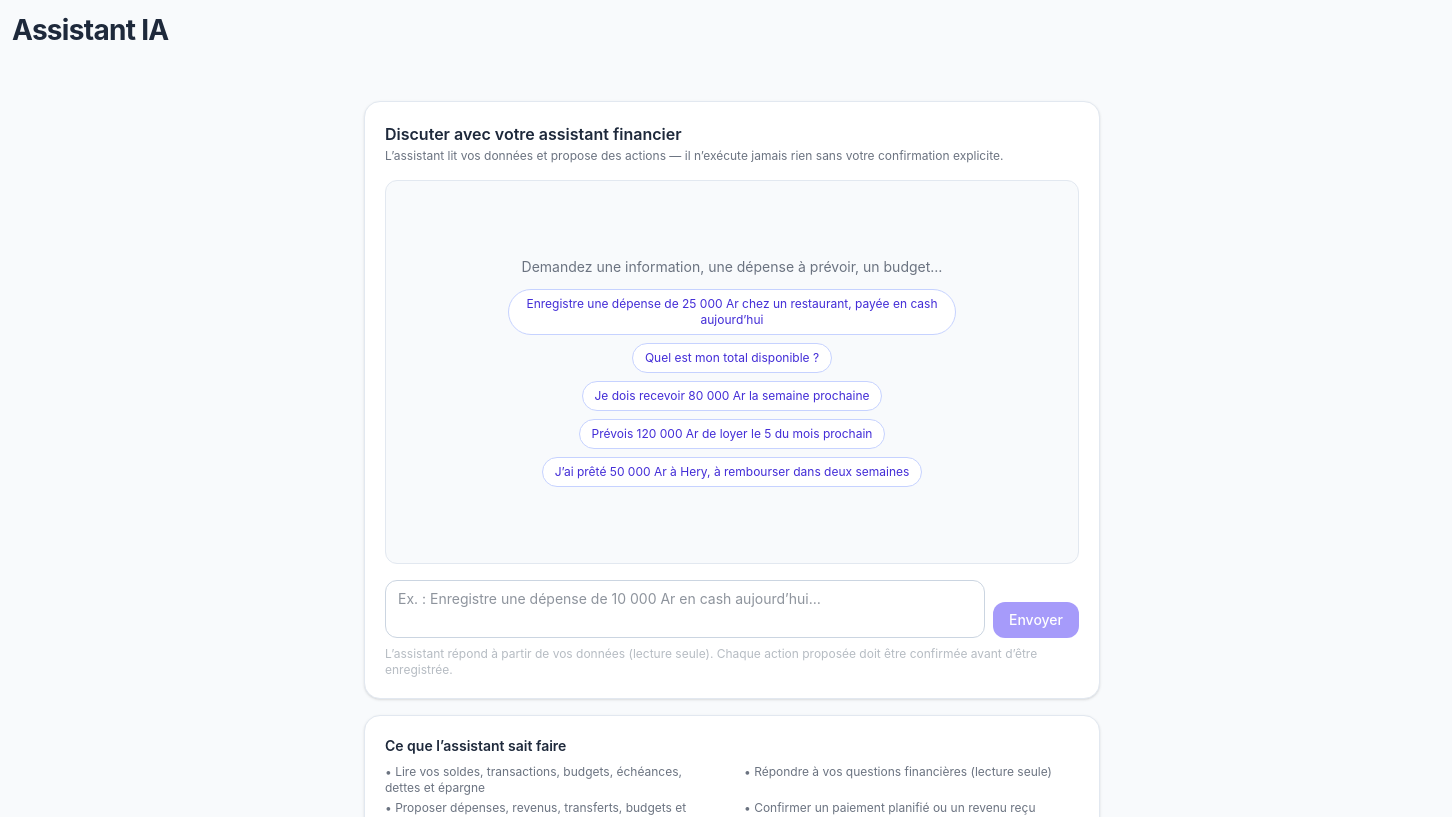
Test: AssistantPage — propositions à confirmer › PROPOSE_ACTION : carte affichée puis confirmation = exécution et message de fin
This screenshot has width=1452, height=817.
Expected: the heading "Assistant IA" is shown, left=12, top=13, right=169, bottom=47
In the text box named "Votre message": (685, 609) left=385, top=580, right=985, bottom=638, type "Enregistre 10 000 Ar en cash"
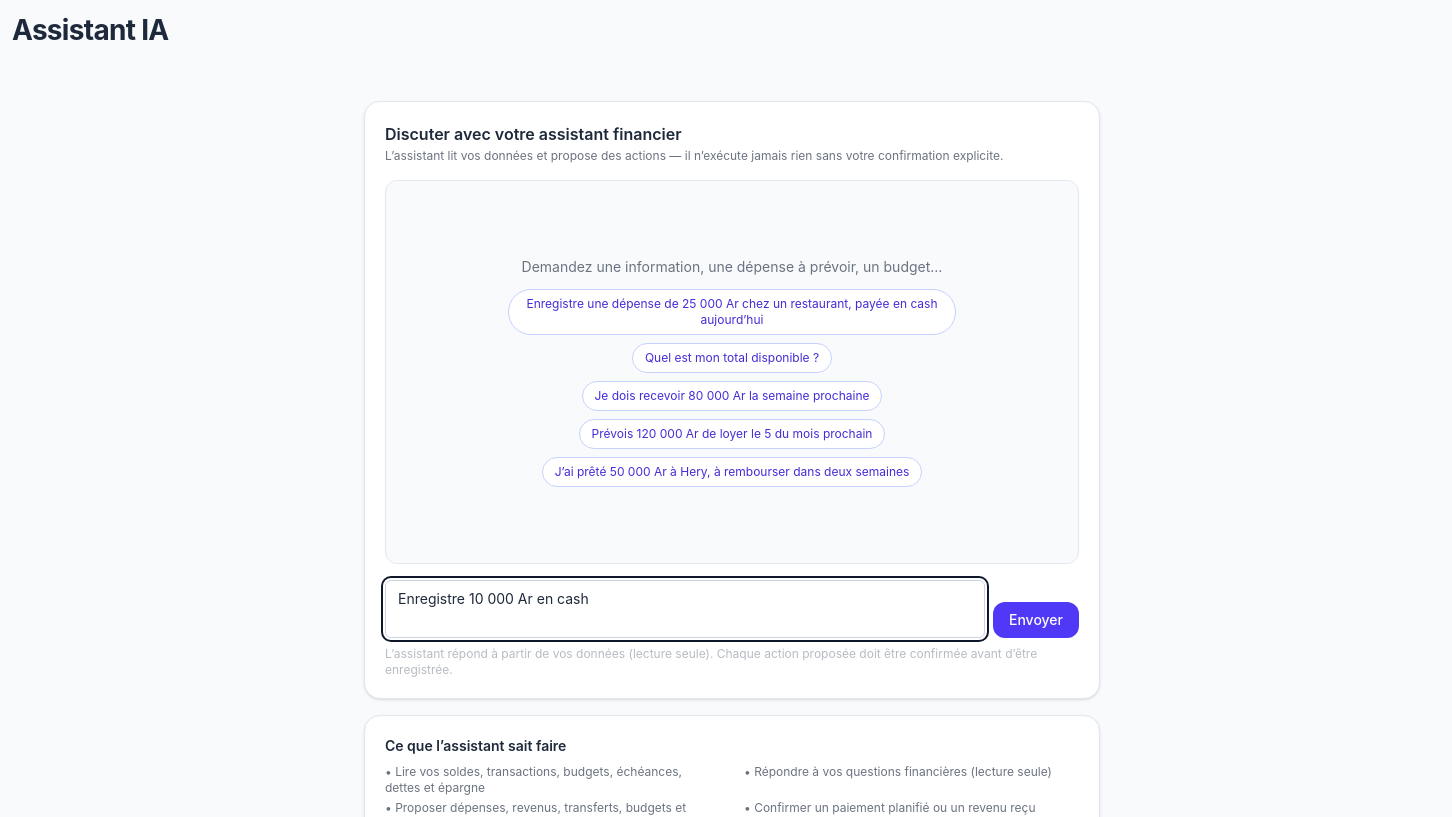
Click the button "Envoyer": (1036, 620) left=993, top=602, right=1079, bottom=638
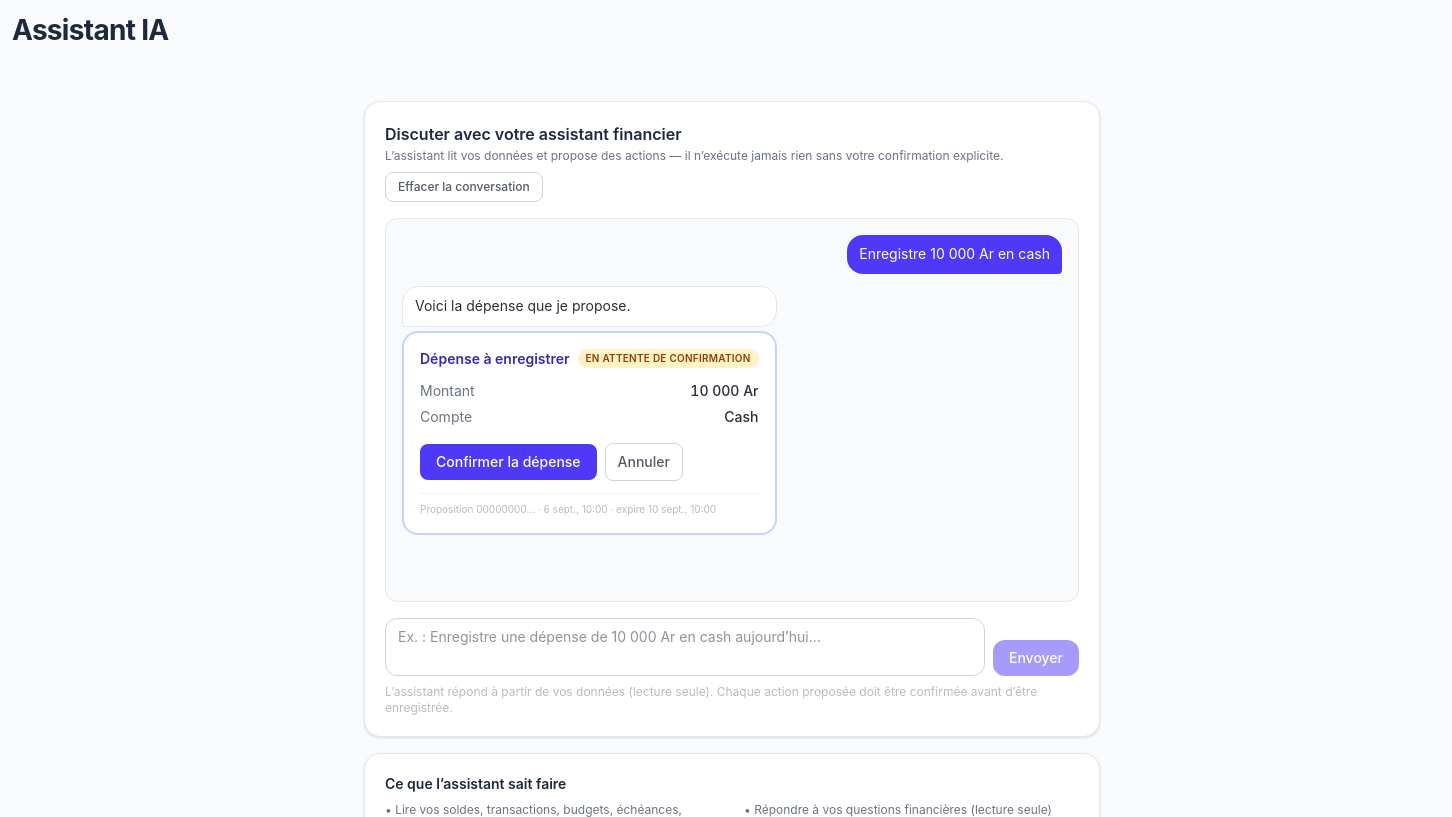
Expected: the heading "Dépense à enregistrer" is shown, left=420, top=349, right=570, bottom=369
Expected: the text "Voici la dépense que je propose." is shown, left=402, top=286, right=776, bottom=327
Expected: the text "10 000 Ar" is shown, left=690, top=381, right=758, bottom=401
Click the button "Confirmer la dépense": (508, 462) left=420, top=444, right=597, bottom=480
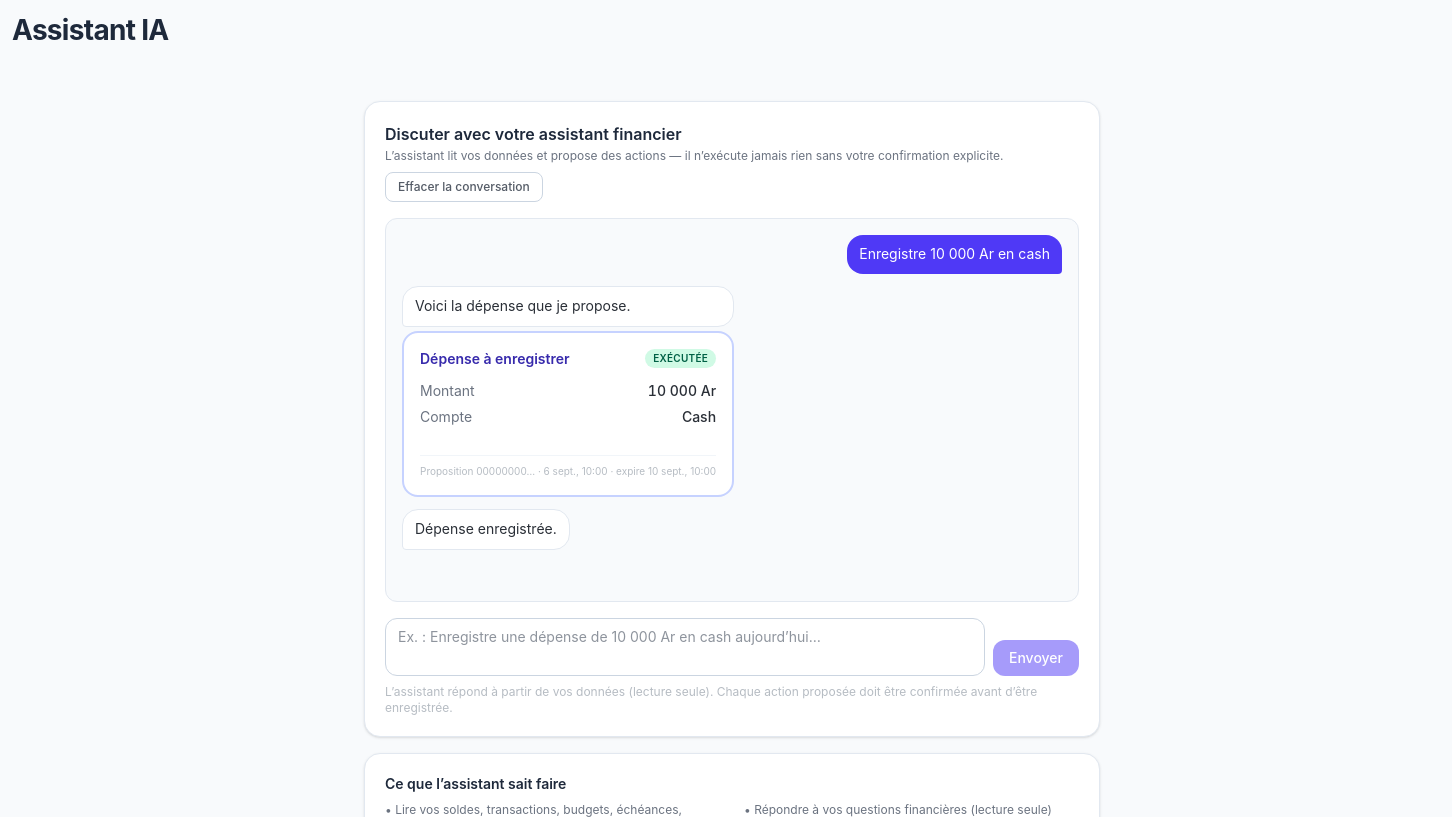
Expected: the text "Exécutée" is shown, left=645, top=349, right=716, bottom=368
Expected: the text "Dépense enregistrée." is shown, left=402, top=509, right=570, bottom=550
Expected: the button "Confirmer la dépense" is gone
